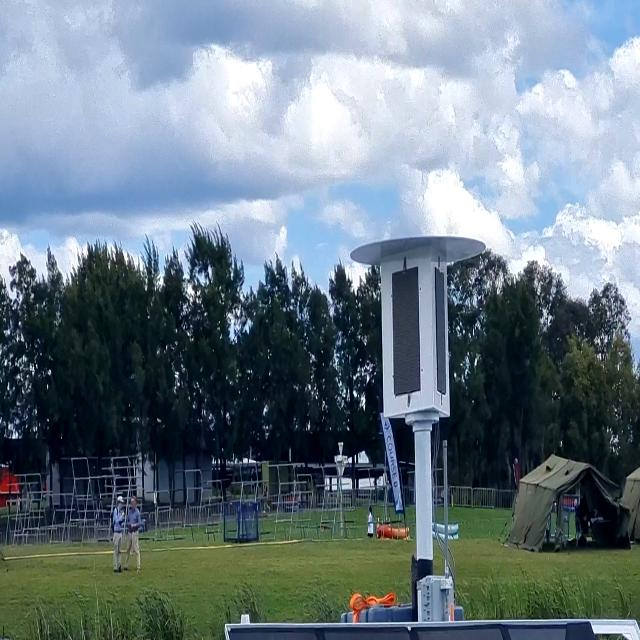led: (385, 260, 427, 402)
